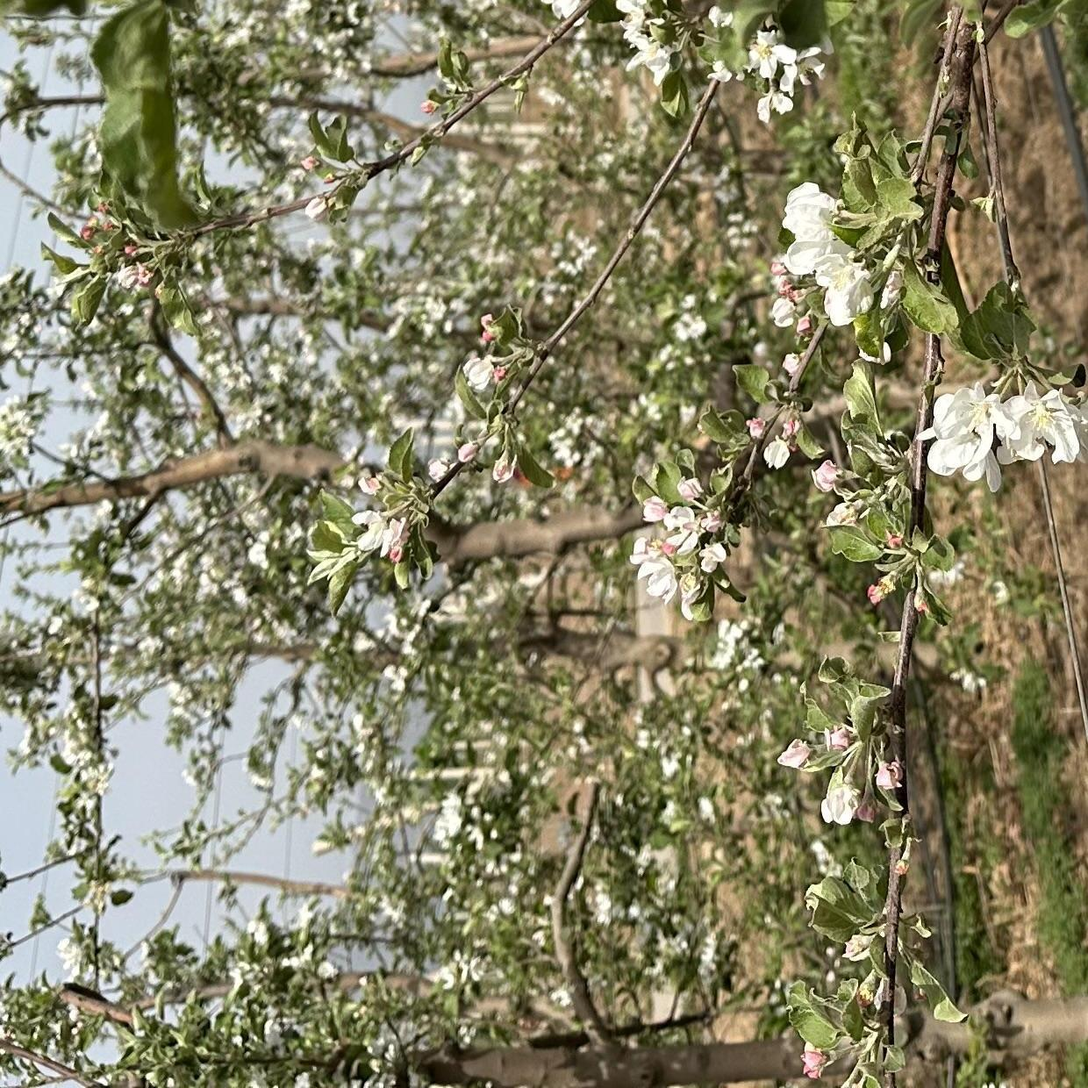apple_flower: (552, 721, 762, 950), (432, 771, 553, 959), (822, 329, 979, 467), (547, 148, 670, 289), (931, 829, 1050, 941), (311, 212, 424, 310), (420, 616, 525, 712), (85, 52, 194, 134), (799, 692, 898, 758), (827, 0, 941, 46), (392, 0, 490, 45), (760, 254, 830, 309), (0, 81, 42, 146), (436, 25, 479, 75), (1051, 244, 1088, 283), (1073, 1044, 1088, 1088)
